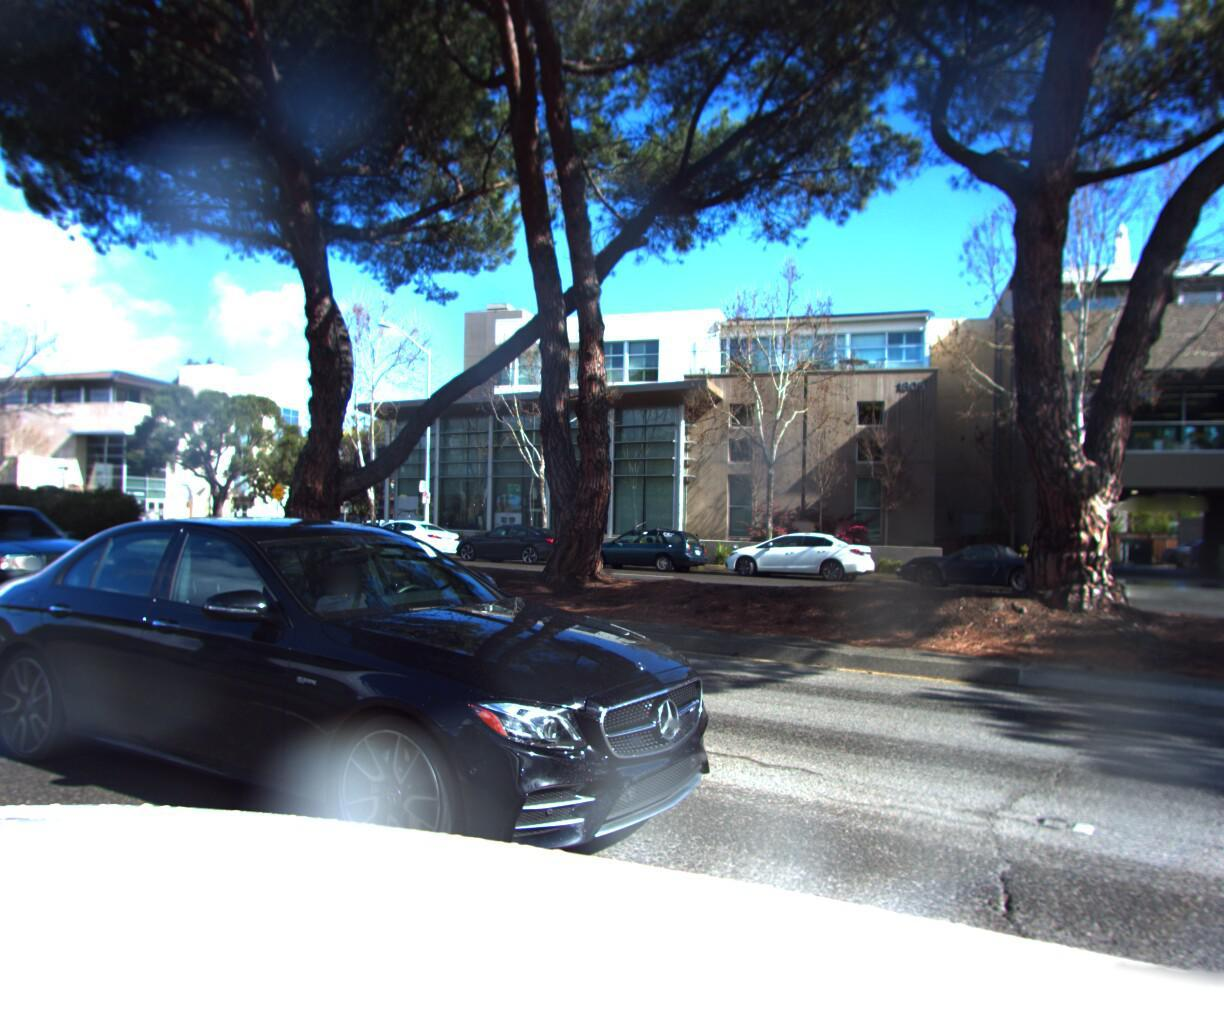car: (885, 539, 1072, 596), (712, 527, 885, 585), (570, 527, 714, 581), (446, 524, 589, 574), (340, 519, 467, 566), (350, 521, 403, 544)
